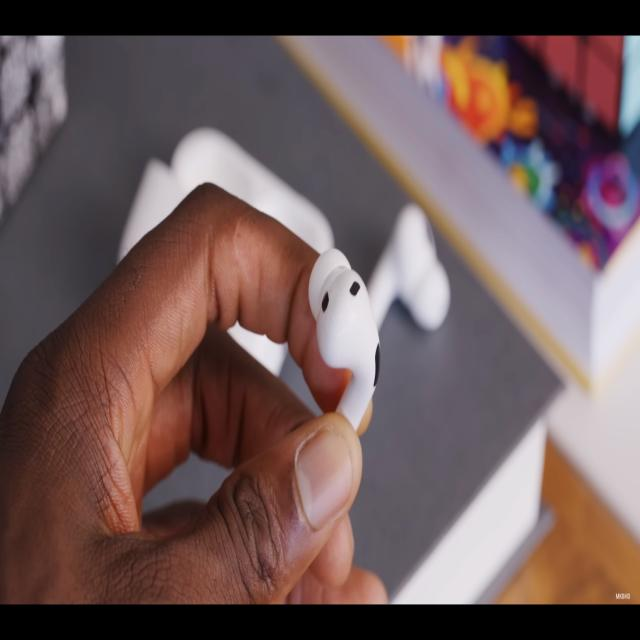airpods: (305, 246, 383, 434)
